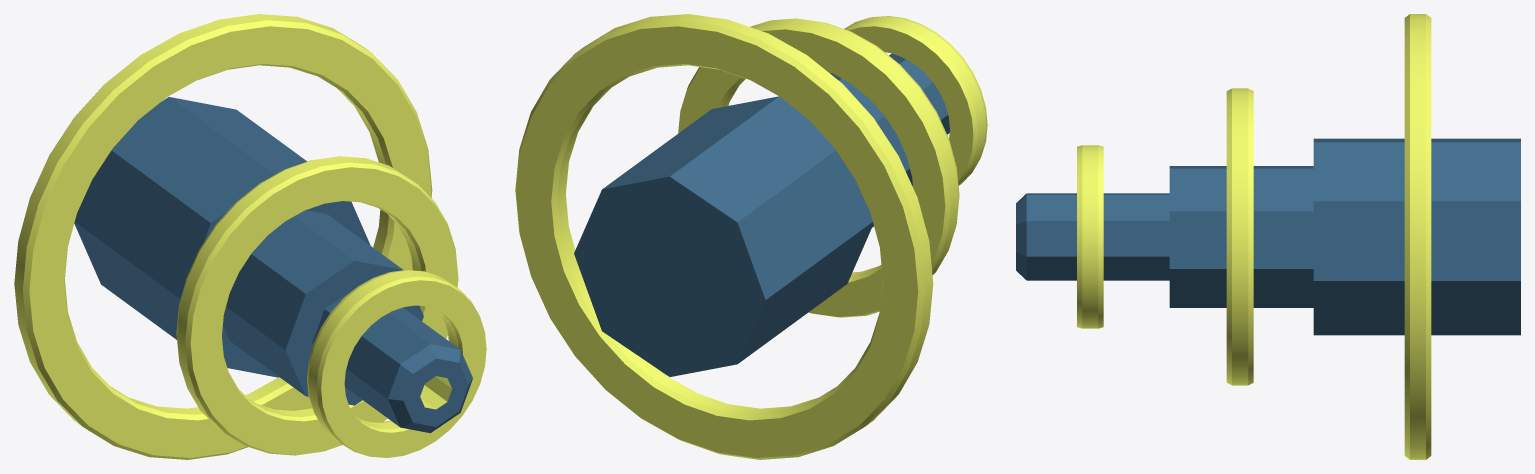
File: LaserEmitter.fbx
3 renders of one model, left to right at view 1: azimuth 30°, elevation 25°; view 2: azimuth 150°, elevation 25°; view 3: azimuth 270°, elevation 25°, orthographic. The views are drawn at different scales.
Visible parts, largest first — view 1: LazerTower; view 2: LazerTower; view 3: LazerTower.
Boxes of the visible parts, x1=… form: LazerTower: x1=14, y1=14, x2=486, y2=459; LazerTower: x1=515, y1=14, x2=987, y2=459; LazerTower: x1=1016, y1=14, x2=1520, y2=459.
Bounding box in the file's own units: 35.09 × 35.09 × 39.7.
